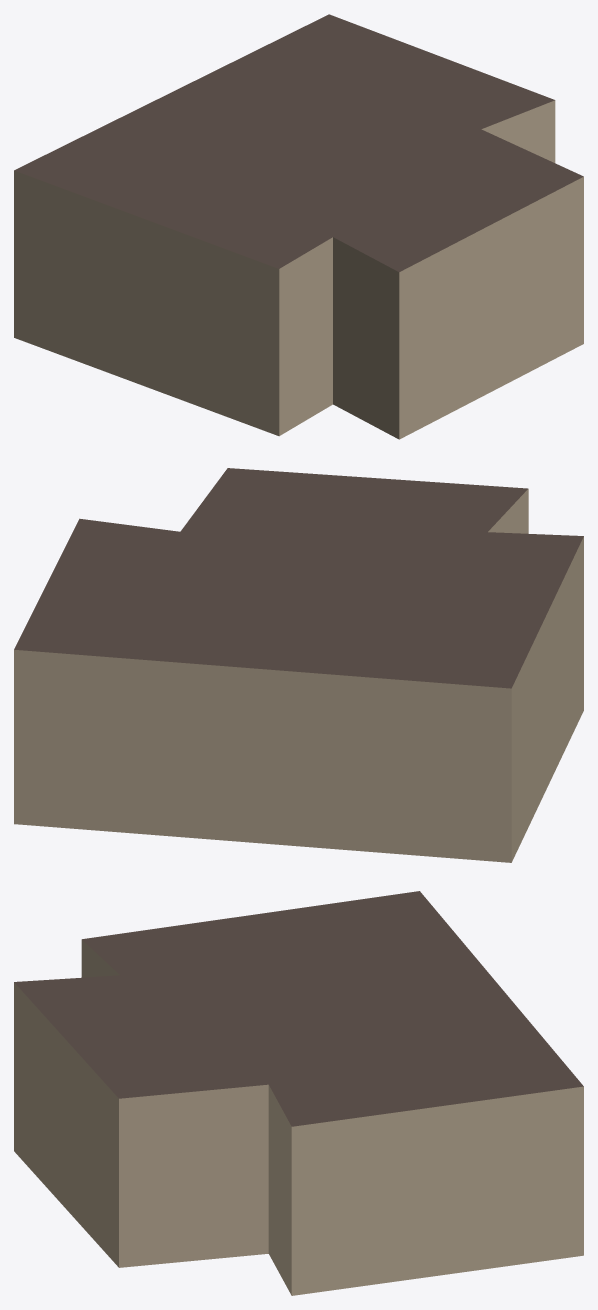
3 renders of one model, top to bottom at view 1: azimuth 30°, elevation 25°; view 2: azimuth 150°, elevation 25°; view 3: azimuth 270°, elevation 25°, orthographic. The views are drawn at different scales.
Parts seen in each view (by area): view 1: HP-w1516161953; view 2: HP-w1516161953; view 3: HP-w1516161953.
Part boxes in pixels (x1,y1,x2,y2): HP-w1516161953: (14,14,583,439); HP-w1516161953: (14,468,583,862); HP-w1516161953: (14,891,583,1295).
Size of the model in its own units: 26.91 by 9 by 27.49.
